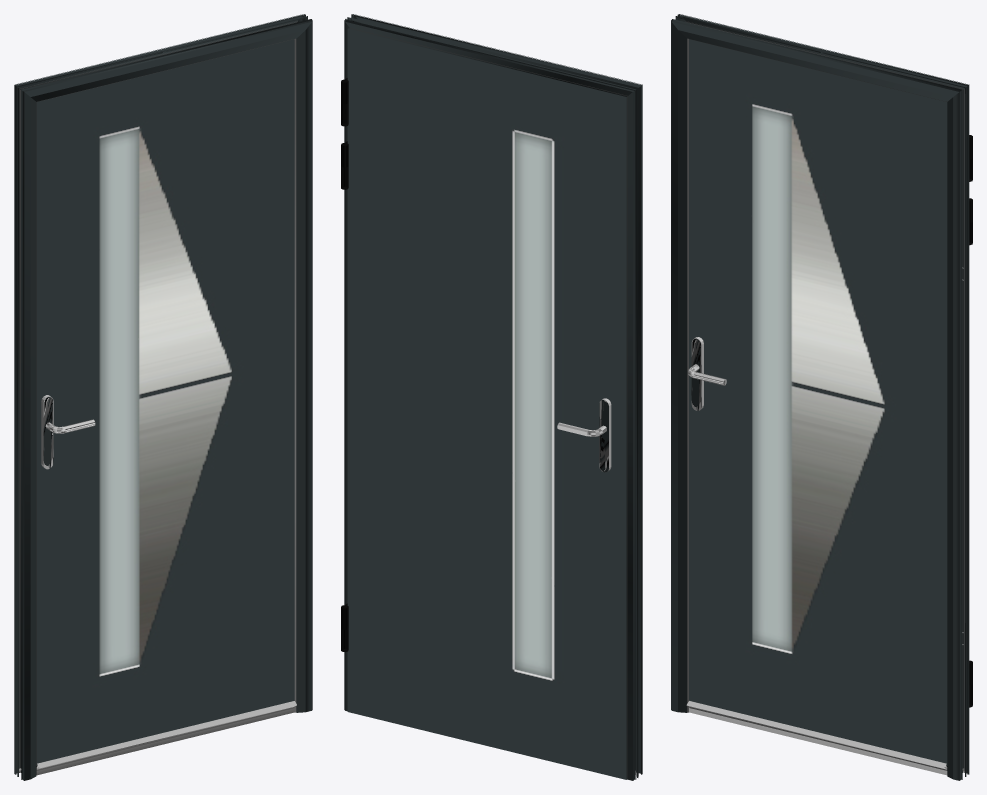
3 renders of one model, left to right at view 1: azimuth 30°, elevation 25°; view 2: azimuth 150°, elevation 25°; view 3: azimuth 330°, elevation 25°, orthographic.
Visible parts, largest first — view 1: ouvrant, 50, puxador; view 2: ouvrant, 50, puxador; view 3: ouvrant, 50, puxador.
Boxes of the visible parts, box(x1,y1,x2,y2) form: ouvrant: box(19, 21, 297, 770); 50: box(14, 14, 312, 780); puxador: box(41, 395, 53, 469); ouvrant: box(341, 28, 627, 779); 50: box(341, 14, 642, 780); puxador: box(599, 398, 611, 472); ouvrant: box(685, 21, 972, 770); 50: box(671, 14, 972, 780); puxador: box(691, 337, 703, 410).
Size of the model in its own units: 96 by 218 by 19.09.
1 material, 1 textured.
